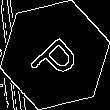P_NE: (24, 24, 86, 86)
